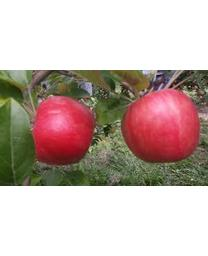apple: (120, 88, 199, 163), (31, 95, 95, 165)
